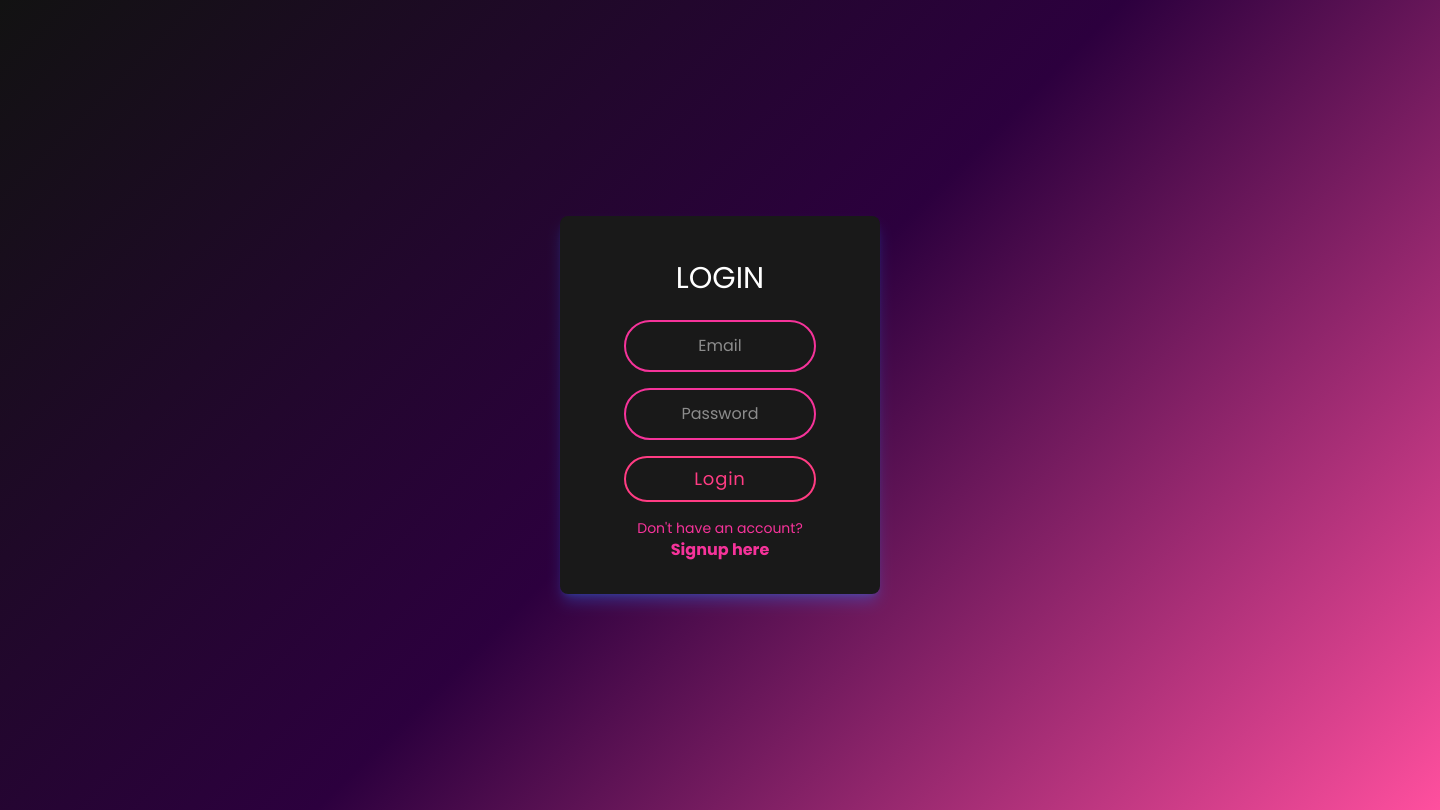
Test: LoginPage Component › should display success message and redirect after 2 seconds
Type "test@example.com" into the field with placeholder "Email" at x=720, y=346, box [624,320,816,372]
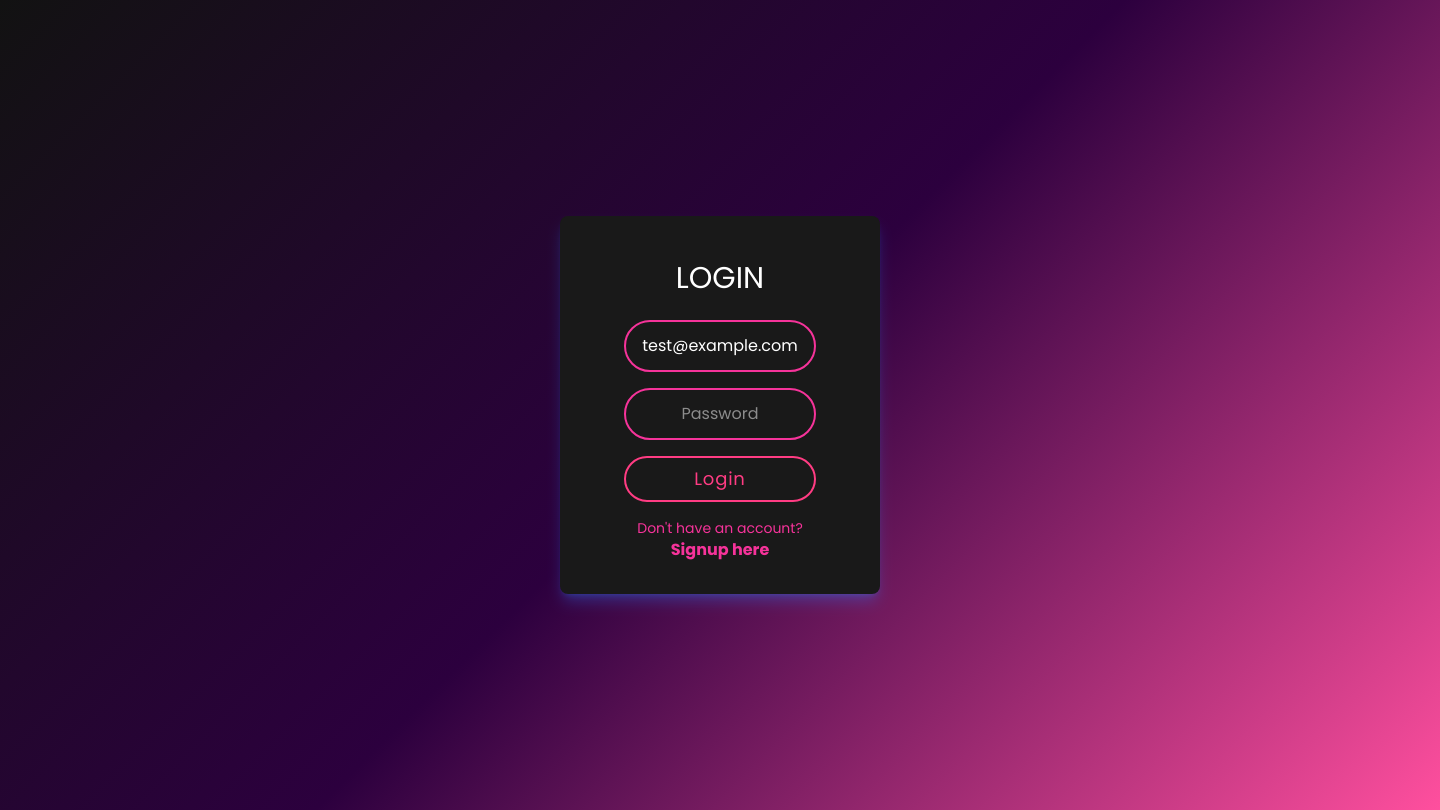
Type "password123" into the password field with placeholder "Password" at x=720, y=414, box [624,388,816,440]
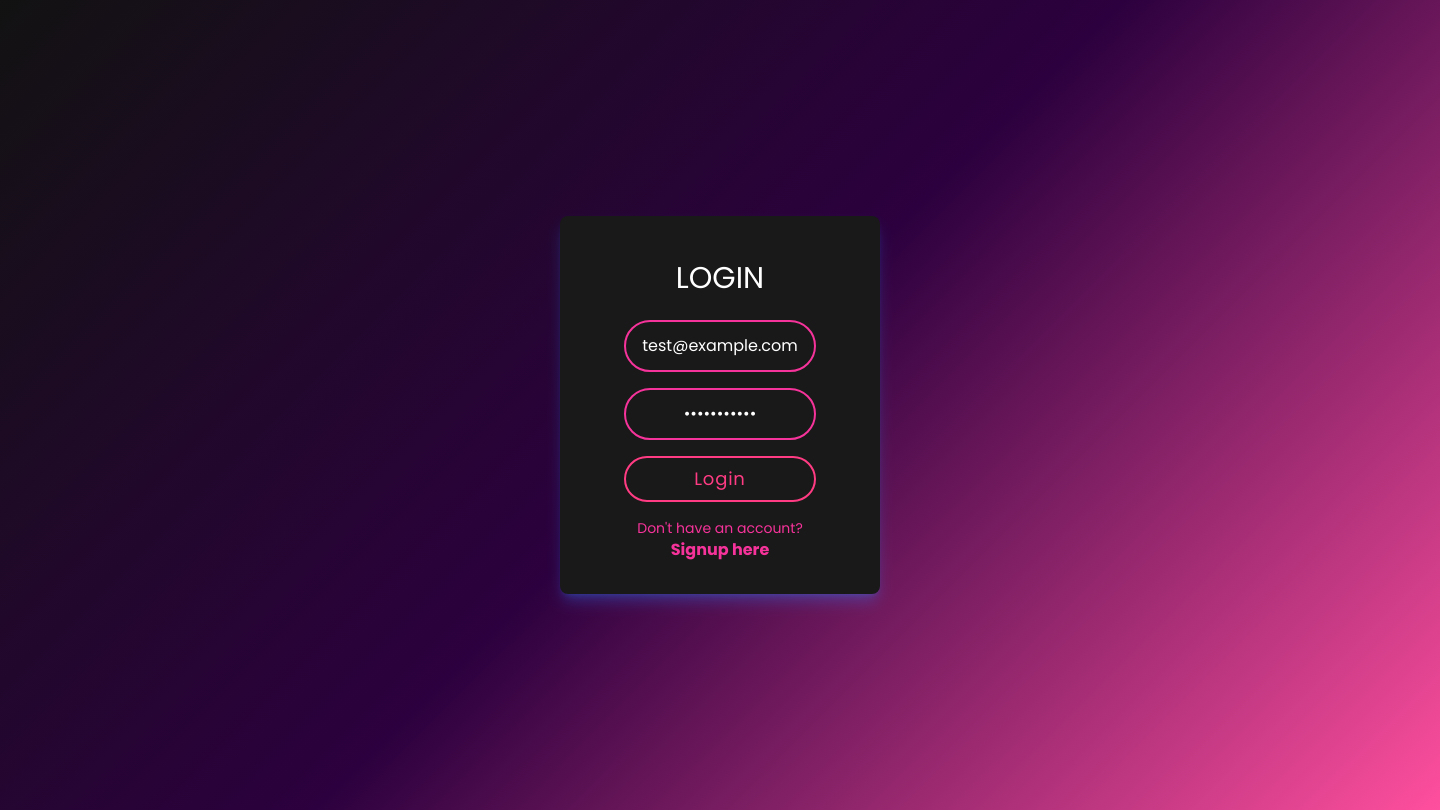
Click the button "Login" at x=720, y=479, box [624,456,816,502]
Wait 2000 ms
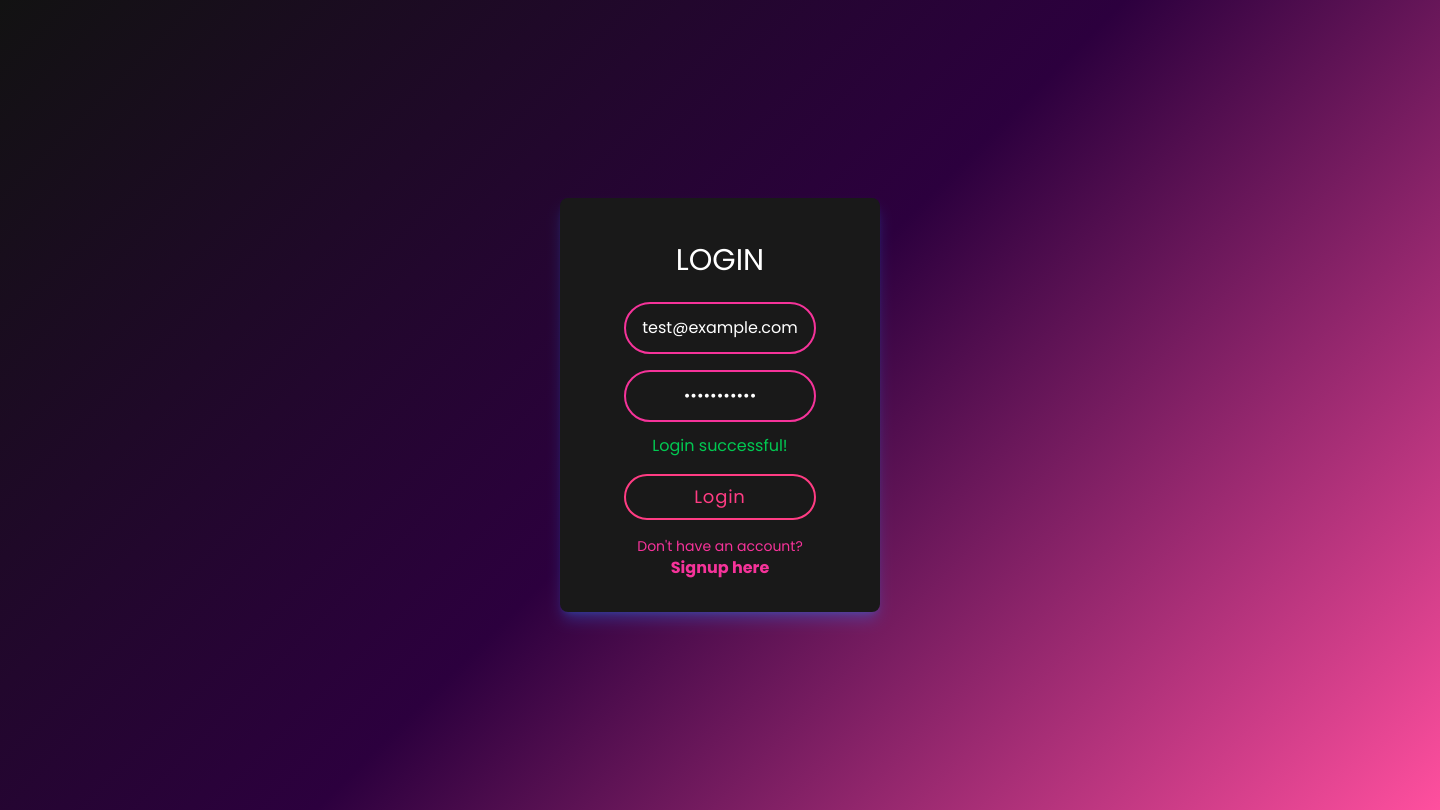
Expected: the text "Login successful!" is shown, [652,434,788,457]
